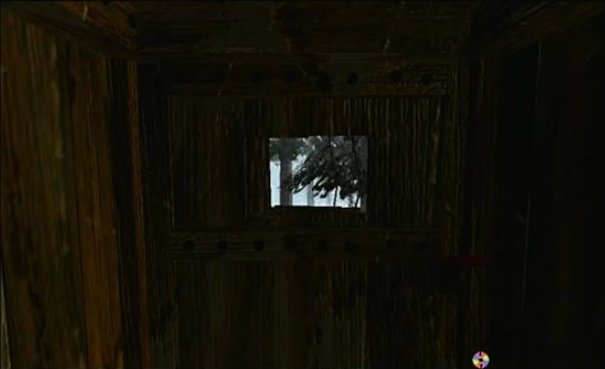Waiting: (469, 348, 492, 368)
